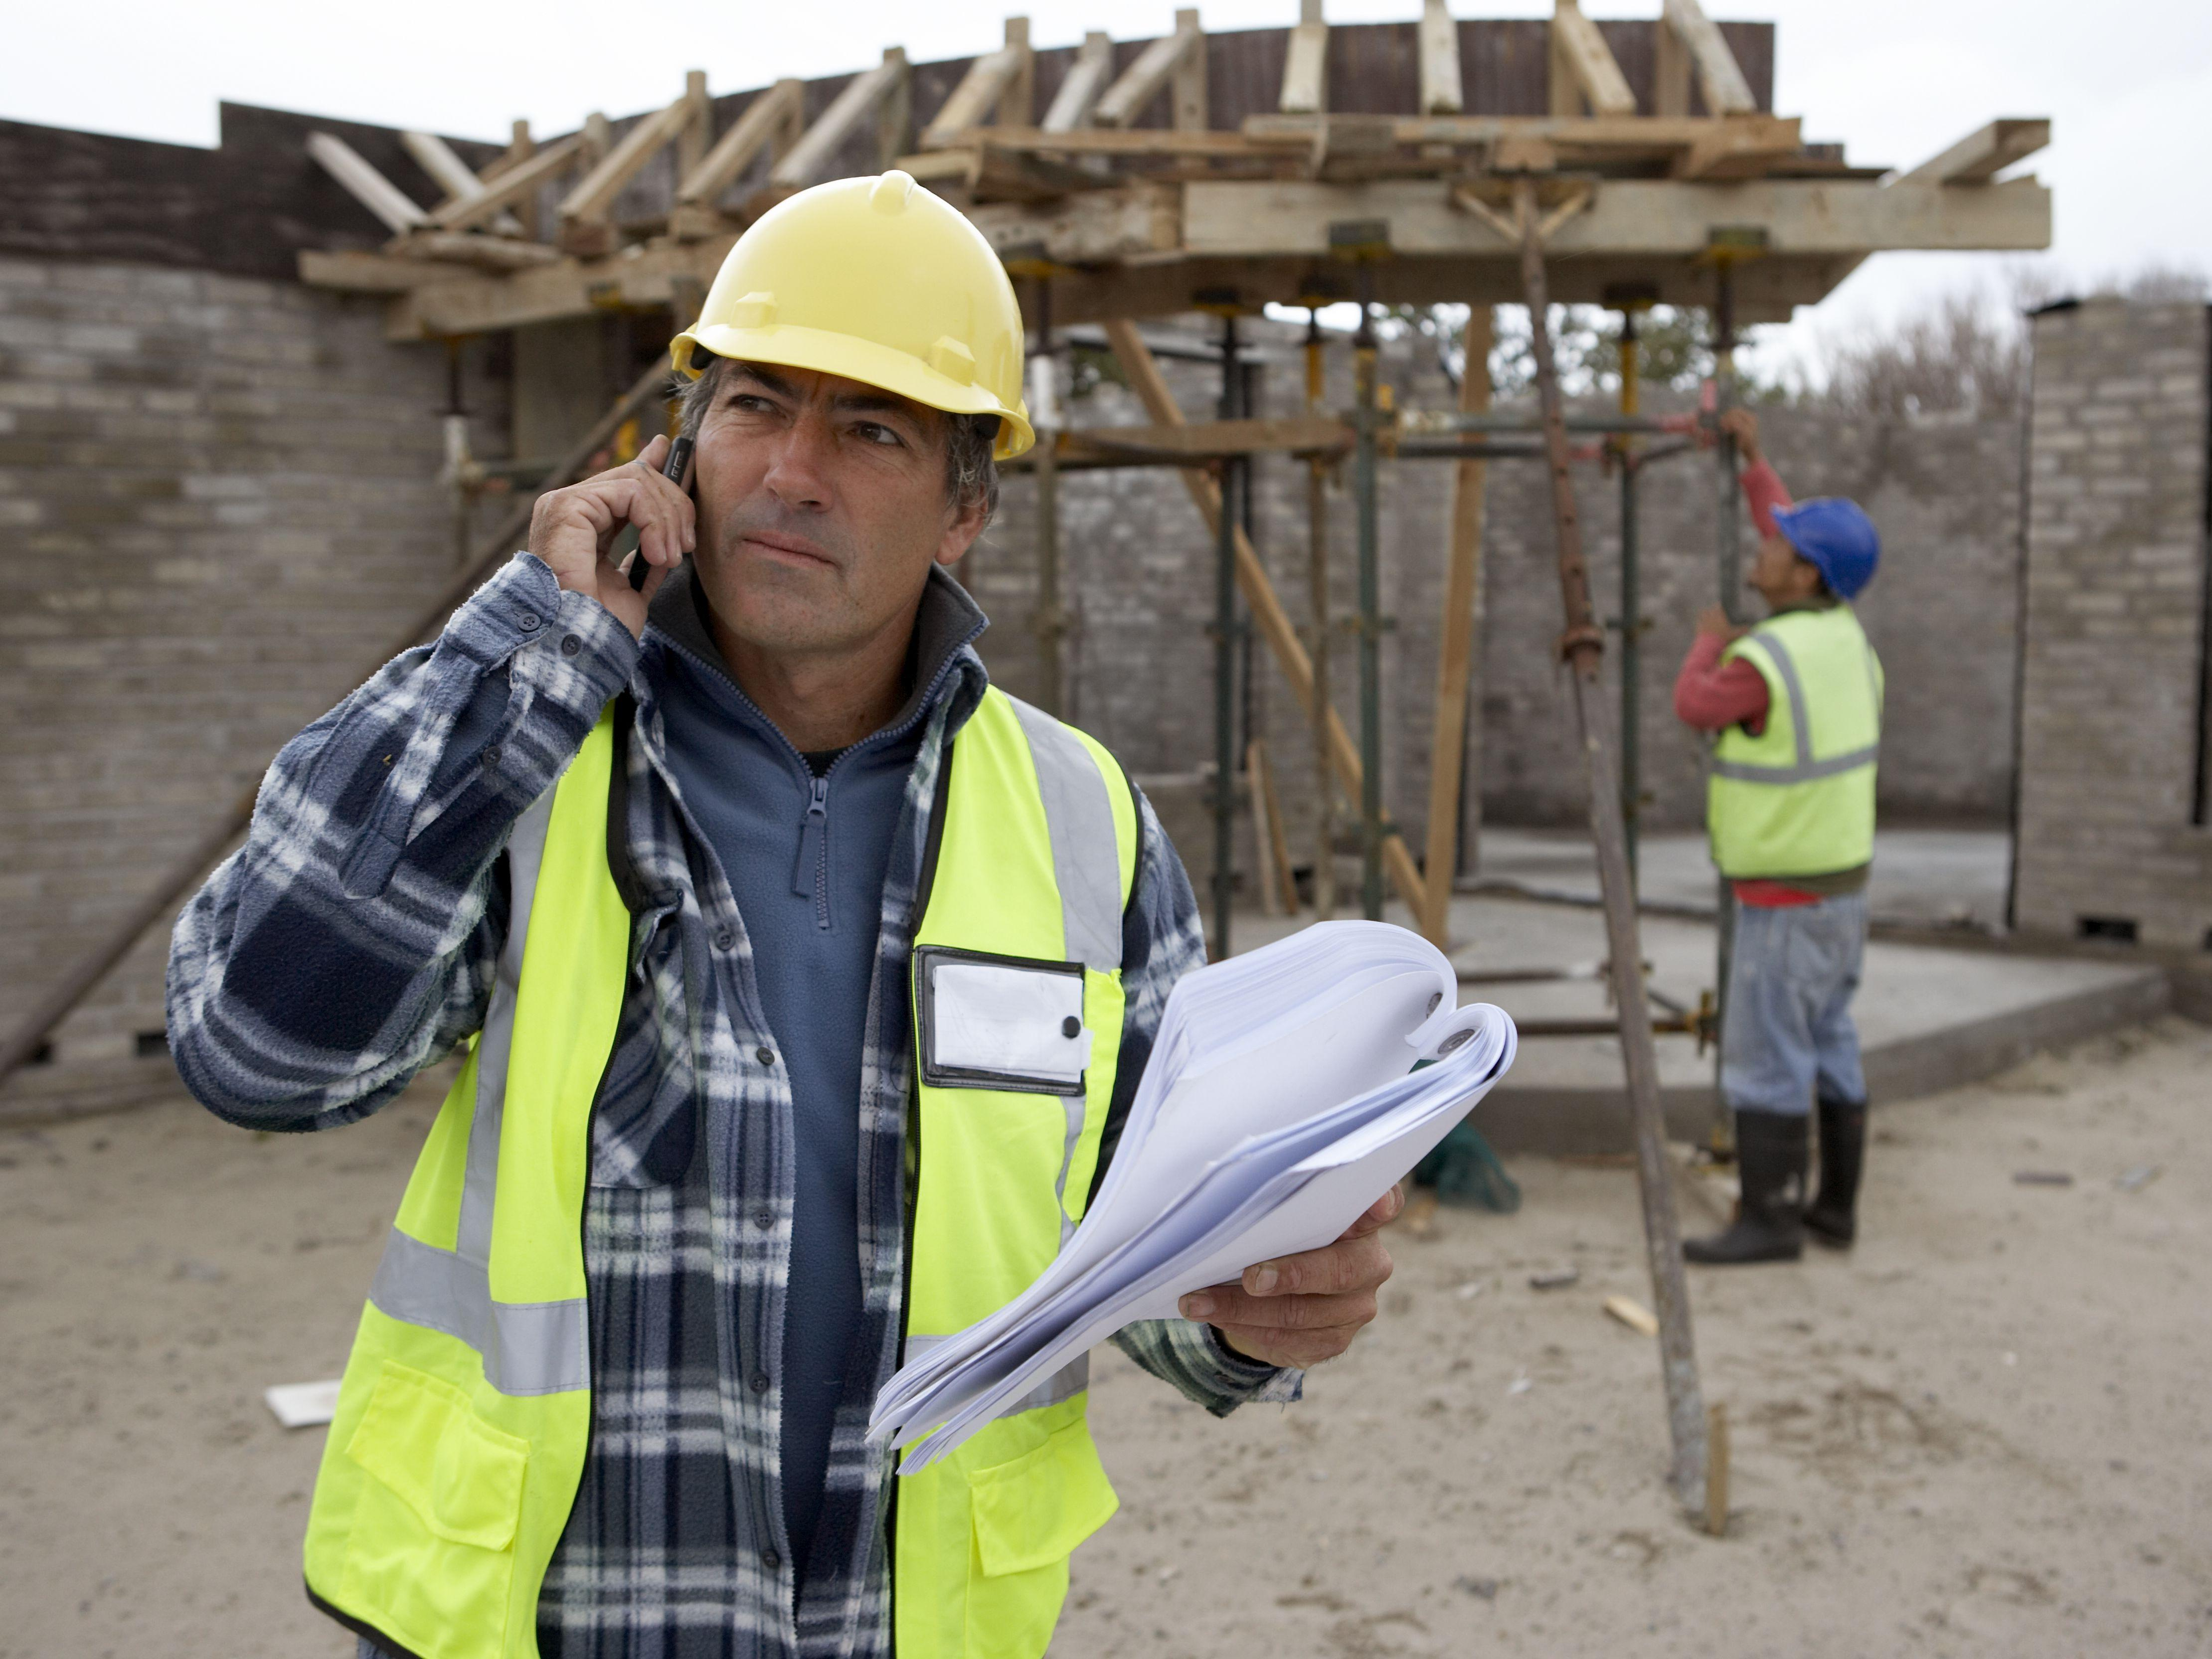helmet: (680, 166, 1039, 450), (1762, 490, 1886, 615)
